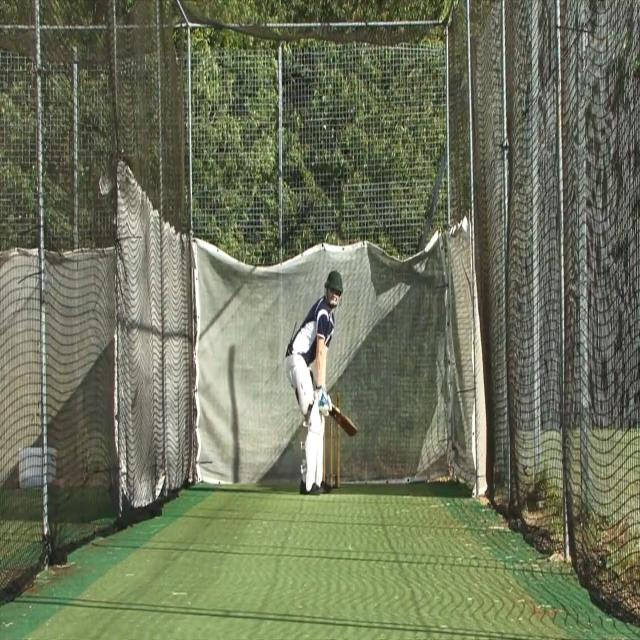batsman: (284, 267, 359, 498)
